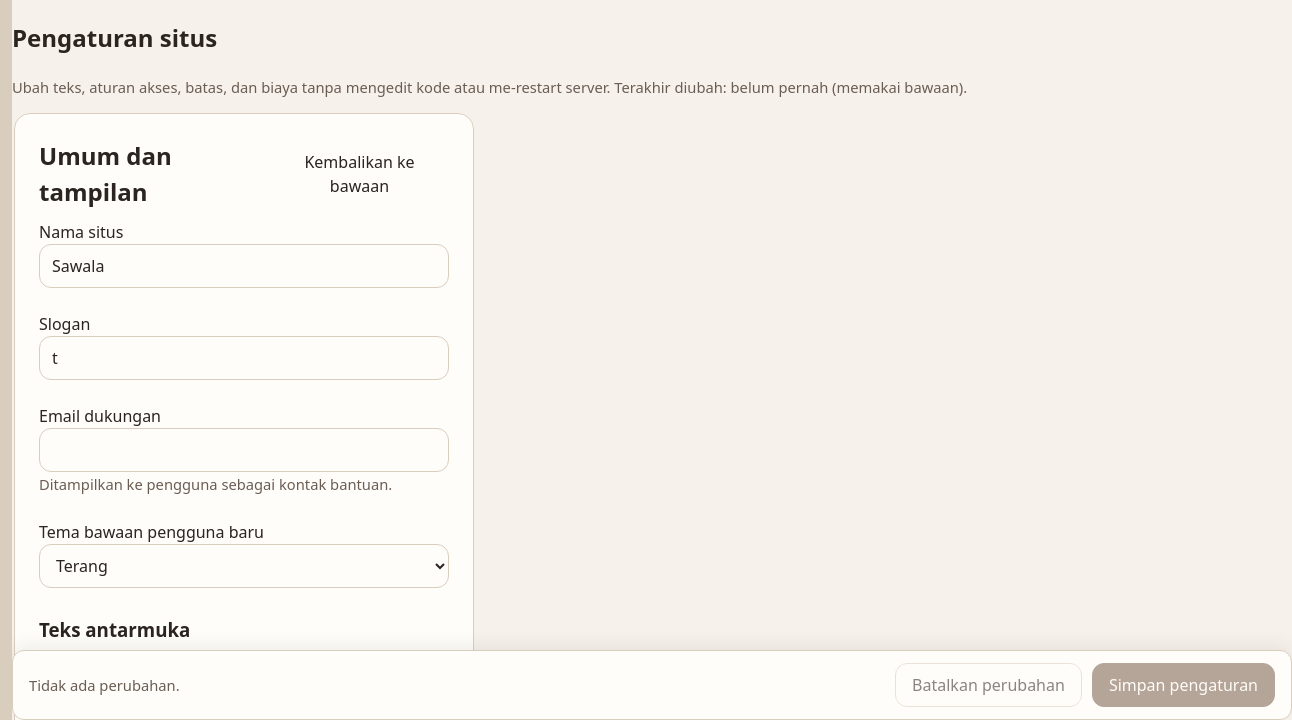
Test: SettingsPage › mengetik tidak kehilangan fokus, tombol simpan hanya aktif saat ada perubahan, dan mengirim nilai baru
This screenshot has width=1292, height=720.
Expected: the button "Simpan pengaturan" is disabled, top-left (1092, 663), bottom-right (1275, 707)
Replace the text in the field labelled "Nama situs" with "Teman Cerita" at [244, 266], box top-left (39, 244), bottom-right (449, 288)
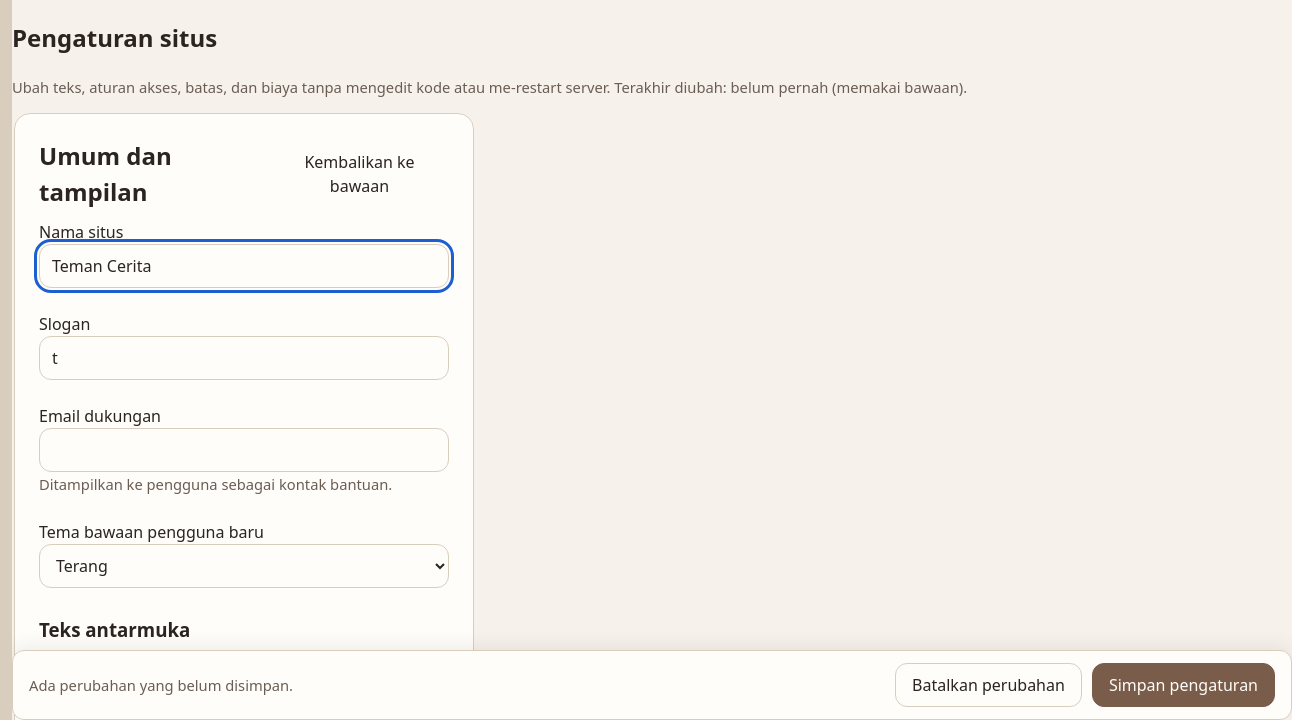
Now the button "Simpan pengaturan" is enabled
Click the button "Simpan pengaturan" at [1183, 685], box top-left (1092, 663), bottom-right (1275, 707)
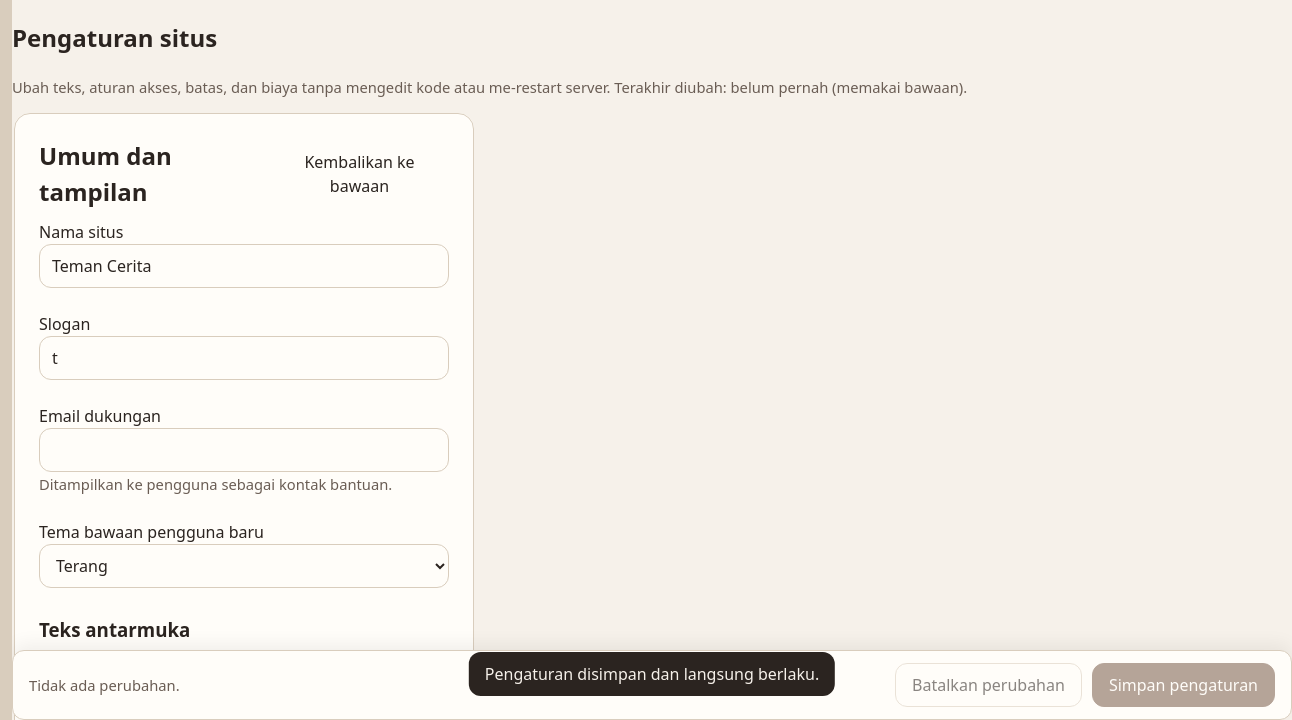
Now the text "Pengaturan disimpan dan langsung berlaku." is shown, box top-left (469, 652), bottom-right (835, 696)
